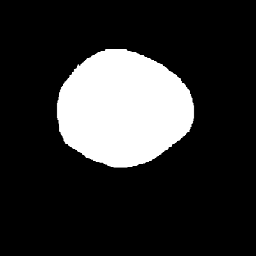mass: (61, 58, 195, 159)
